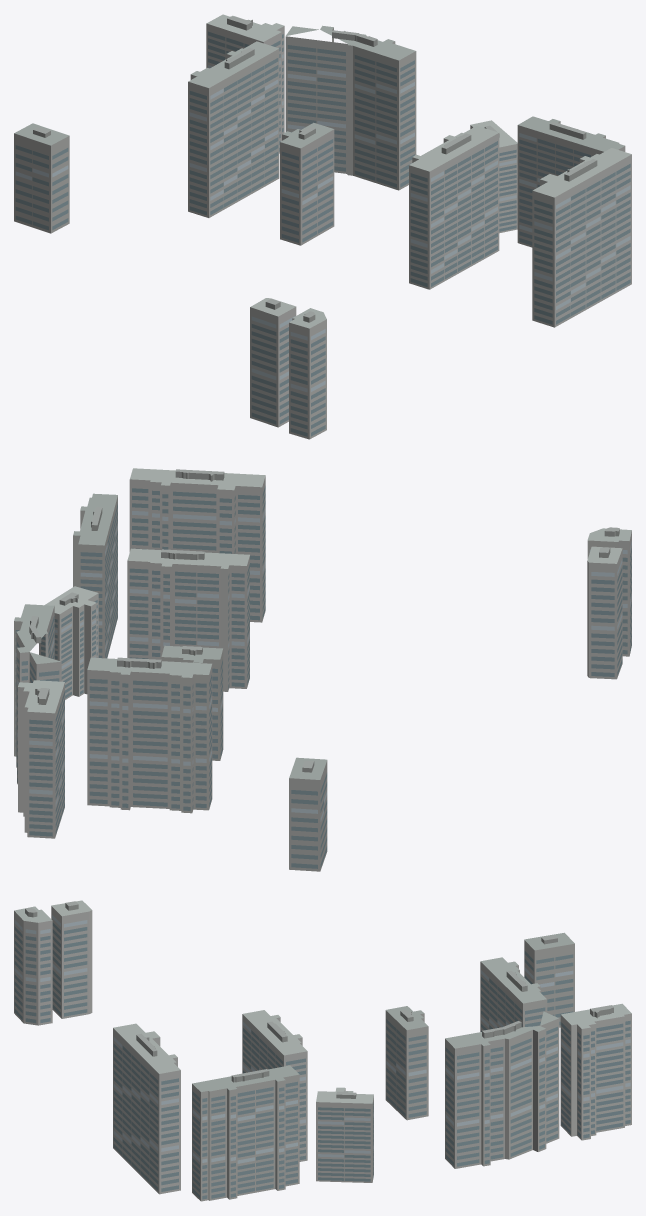
The model's file is apt-a10023669.glb.
The picture shows the model from 3 angles, top to bottom: view 1: azimuth 30°, elevation 25°; view 2: azimuth 150°, elevation 25°; view 3: azimuth 270°, elevation 25°; orthographic projection. The views are drawn at different scales.
Parts seen in each view (by area): view 1: apt-a10023669; view 2: apt-a10023669; view 3: apt-a10023669.
Boxes of the visible parts, x1,y1,x2,y2 form: apt-a10023669: (14, 14, 631, 439); apt-a10023669: (14, 468, 631, 871); apt-a10023669: (14, 900, 631, 1201).
Size of the model in its own units: 190 by 56 by 249.
